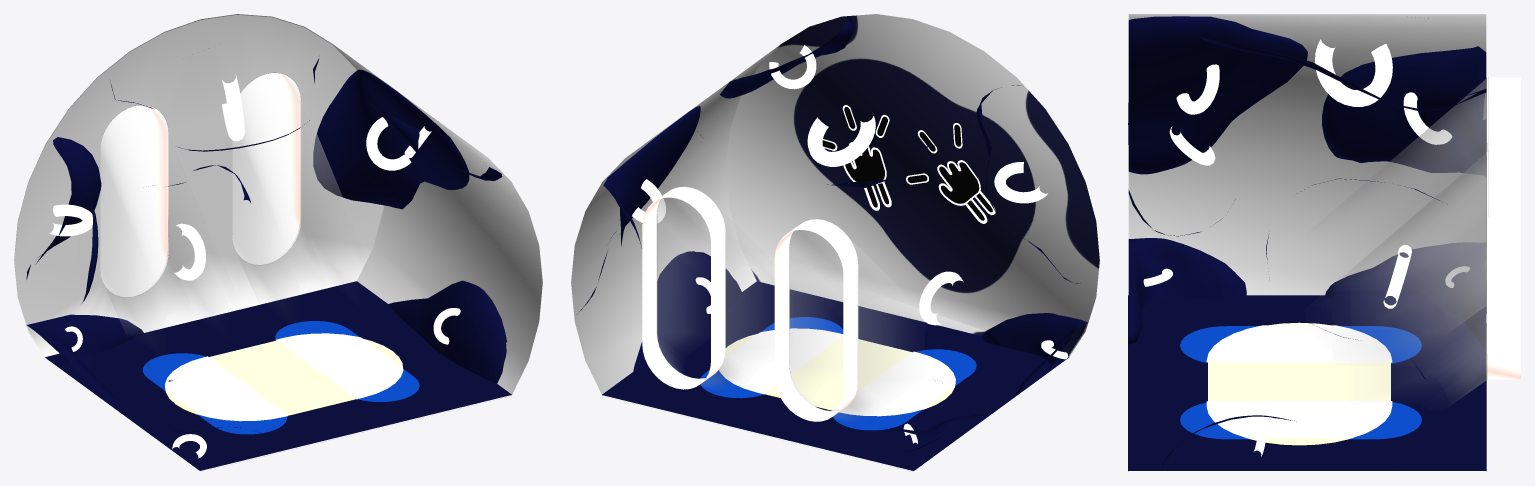
The model's file is interruptor_interior.glb.
3 views of the same model, side by side, from view 1: azimuth 30°, elevation 25°; view 2: azimuth 150°, elevation 25°; view 3: azimuth 270°, elevation 25° (orthographic). The views are drawn at different scales.
Parts seen in each view (by area): view 1: Walls, Light_Cylinder, Plane, Blobs, Floor_Light_2, Platform, Nose_Rings, Floor_Light; view 2: Walls, Plane, Light_Cylinder, Blobs, Floor_Light_2, Nose_Rings, Platform, Floor_Light, Wall_Lights, Wall_Lights_2, Wall_Lights_1; view 3: Walls, Blobs, Plane, Light_Cylinder, Floor_Light_2, Platform, Nose_Rings, Floor_Light.
Boxes of the visible parts, x1=… form: Walls: x1=14, y1=14, x2=542, y2=471; Light_Cylinder: x1=100, y1=73, x2=355, y2=331; Plane: x1=45, y1=281, x2=511, y2=470; Blobs: x1=26, y1=56, x2=506, y2=451; Floor_Light_2: x1=165, y1=333, x2=403, y2=421; Platform: x1=165, y1=339, x2=402, y2=415; Nose_Rings: x1=49, y1=74, x2=460, y2=458; Floor_Light: x1=143, y1=321, x2=419, y2=434; Walls: x1=571, y1=14, x2=1099, y2=471; Plane: x1=602, y1=281, x2=1068, y2=470; Light_Cylinder: x1=656, y1=187, x2=905, y2=417; Blobs: x1=577, y1=16, x2=1087, y2=452; Floor_Light_2: x1=719, y1=328, x2=955, y2=416; Nose_Rings: x1=632, y1=45, x2=1067, y2=443; Platform: x1=725, y1=334, x2=954, y2=410; Floor_Light: x1=700, y1=317, x2=976, y2=430; Wall_Lights: x1=823, y1=105, x2=995, y2=223; Wall_Lights_2: x1=907, y1=124, x2=992, y2=220; Wall_Lights_1: x1=822, y1=107, x2=888, y2=207; Walls: x1=1128, y1=14, x2=1520, y2=471; Blobs: x1=1128, y1=16, x2=1486, y2=468; Plane: x1=1128, y1=295, x2=1486, y2=470; Light_Cylinder: x1=1333, y1=77, x2=1488, y2=402; Floor_Light_2: x1=1206, y1=325, x2=1392, y2=439; Platform: x1=1208, y1=322, x2=1390, y2=445; Nose_Rings: x1=1143, y1=39, x2=1469, y2=456; Floor_Light: x1=1180, y1=326, x2=1421, y2=439.
Size of what is drawn, in the model's own units: 211 by 163 by 167.
9 materials, 2 textured.
